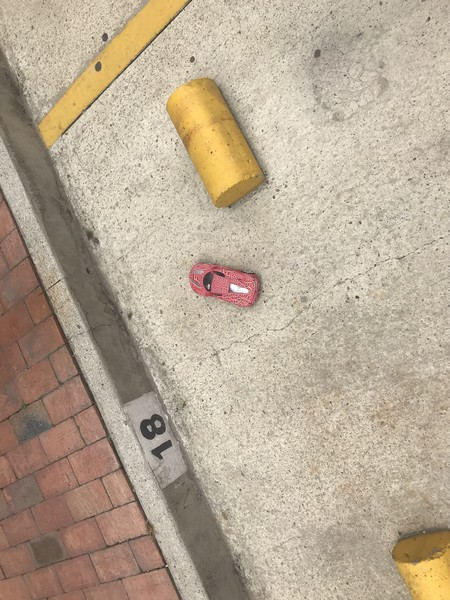RC: (187, 260, 263, 309)
